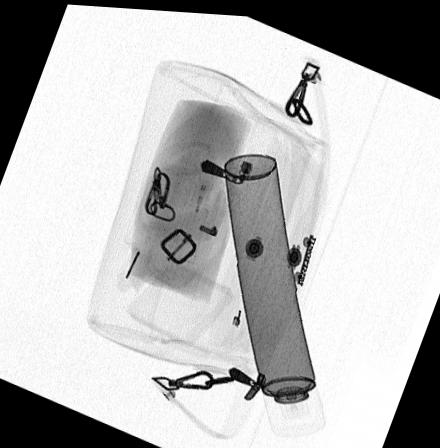Sprayer: (223, 149, 324, 431)
